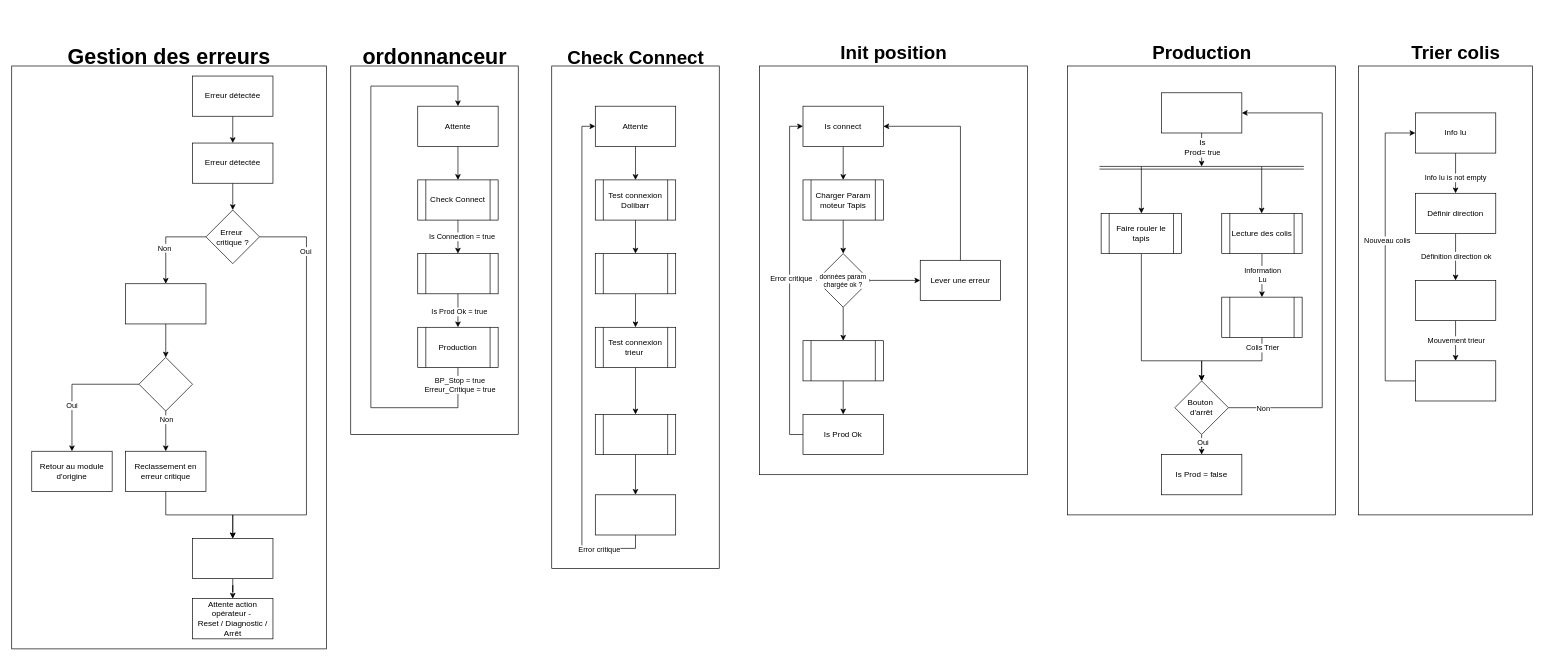
This 1554x661 diagram has some shape labels left out. Here are the shapes that lost their labels. From the top down, the centre of each, then its label:
the point at 1201,112: Is Prod
the point at 457,273: Init Positions
the point at 635,273: Test connexion moteur tapis
the point at 165,303: Auto récupération - Retry / Reset partiel / Rechargement paramètres
the point at 1261,316: Triage des colis
the point at 1455,300: Bouger trieur
the point at 842,360: Init position trieur
the point at 1455,380: Colis trier = true
the point at 165,384: Récupération réussie ?
the point at 635,434: Test connexion capteur RFID
the point at 635,514: Is connect OK
the point at 232,558: Mise en sécurité - Stop tapis / stop trieur / Log erreur
